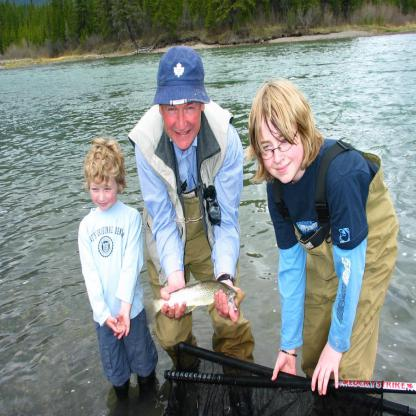face: (258, 117, 303, 186), (163, 87, 204, 147), (91, 175, 120, 212)
